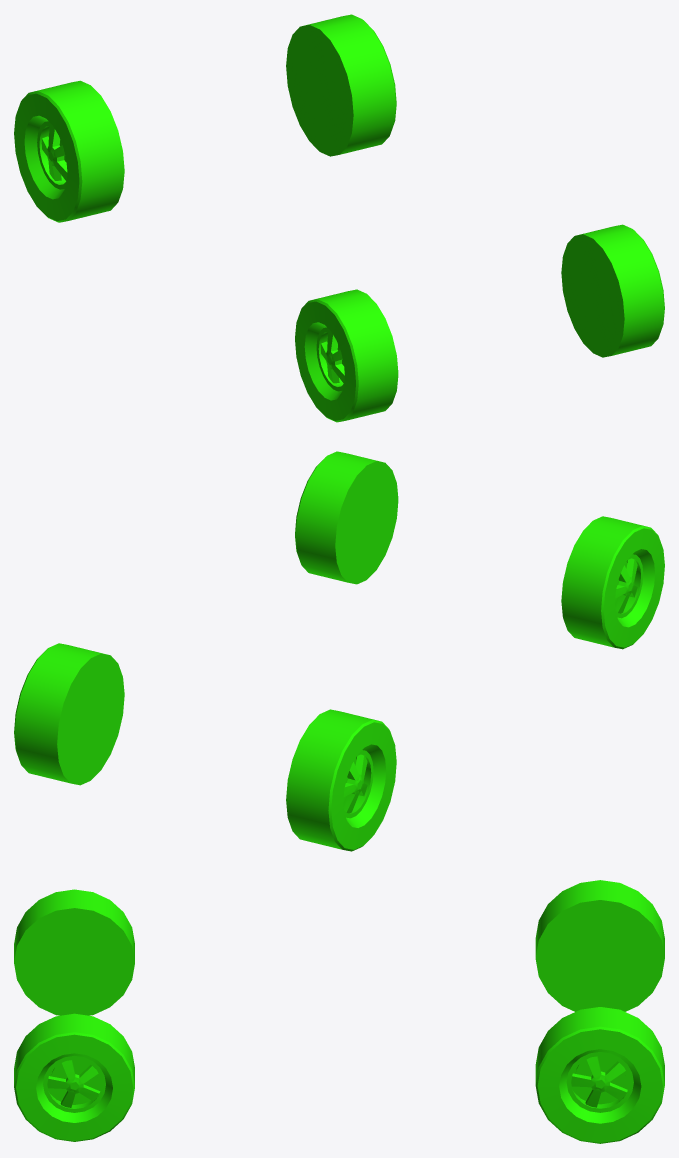
The picture shows the model from 3 angles, top to bottom: view 1: azimuth 30°, elevation 25°; view 2: azimuth 150°, elevation 25°; view 3: azimuth 270°, elevation 25°; orthographic projection. The views are drawn at different scales.
Visible parts, largest first — view 1: RearLeftWheel, RearRightWheel, FrontRightWheel, FrontLeftWheel; view 2: RearRightWheel, RearLeftWheel, FrontLeftWheel, FrontRightWheel; view 3: RearLeftWheel, RearRightWheel, FrontLeftWheel, FrontRightWheel.
Part boxes in pixels (<box>): RearLeftWheel: <box>286,14,396,156</box>; RearRightWheel: <box>14,80,124,222</box>; FrontRightWheel: <box>295,289,398,422</box>; FrontLeftWheel: <box>561,224,664,357</box>; RearRightWheel: <box>286,709,396,851</box>; RearLeftWheel: <box>14,643,124,785</box>; FrontLeftWheel: <box>295,451,398,584</box>; FrontRightWheel: <box>561,516,664,649</box>; RearLeftWheel: <box>535,1007,664,1143</box>; RearRightWheel: <box>535,880,664,1011</box>; FrontLeftWheel: <box>14,1013,134,1141</box>; FrontRightWheel: <box>14,889,134,1015</box>.
Bounding box in the file's own units: 208 × 76.39 × 384.
